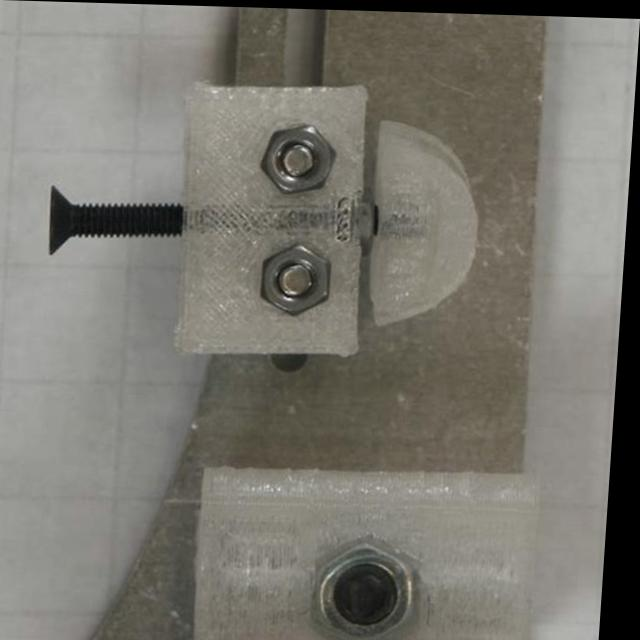Regular bolt: (314, 534, 432, 640), (261, 118, 341, 194), (264, 244, 338, 314)
